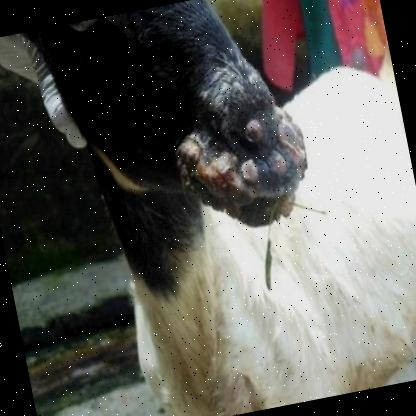ppr: (171, 122, 308, 228)
